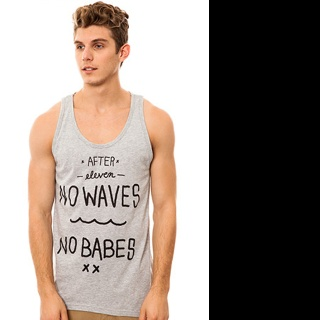without_mask: (73, 23, 120, 86)
